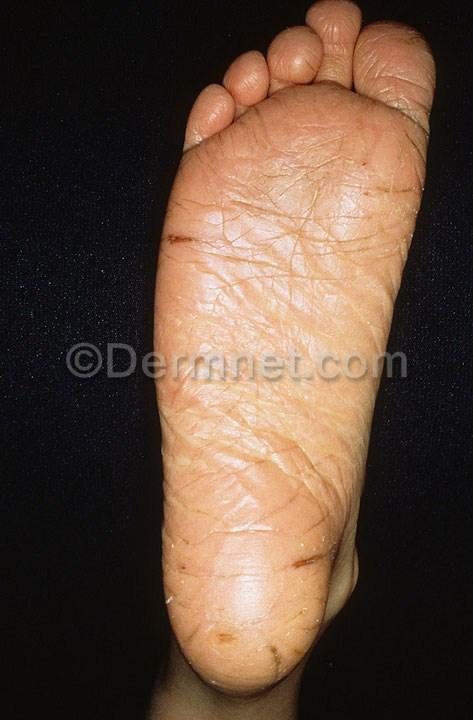exudacion 1: (278, 554, 332, 574), (162, 229, 202, 248)
liquenificacion 1: (163, 0, 435, 499)
xerosis 1: (389, 183, 433, 257)
xerosis 2: (165, 522, 341, 695)
